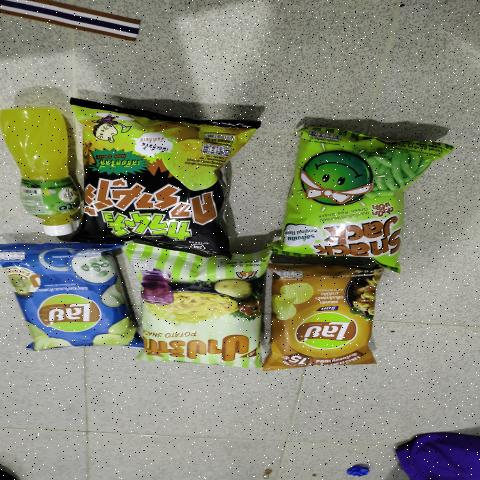karamujo: (88, 117, 210, 248)
lay_blue: (19, 248, 126, 347)
paprika: (141, 256, 253, 361)
snack_jack: (300, 131, 402, 261)
